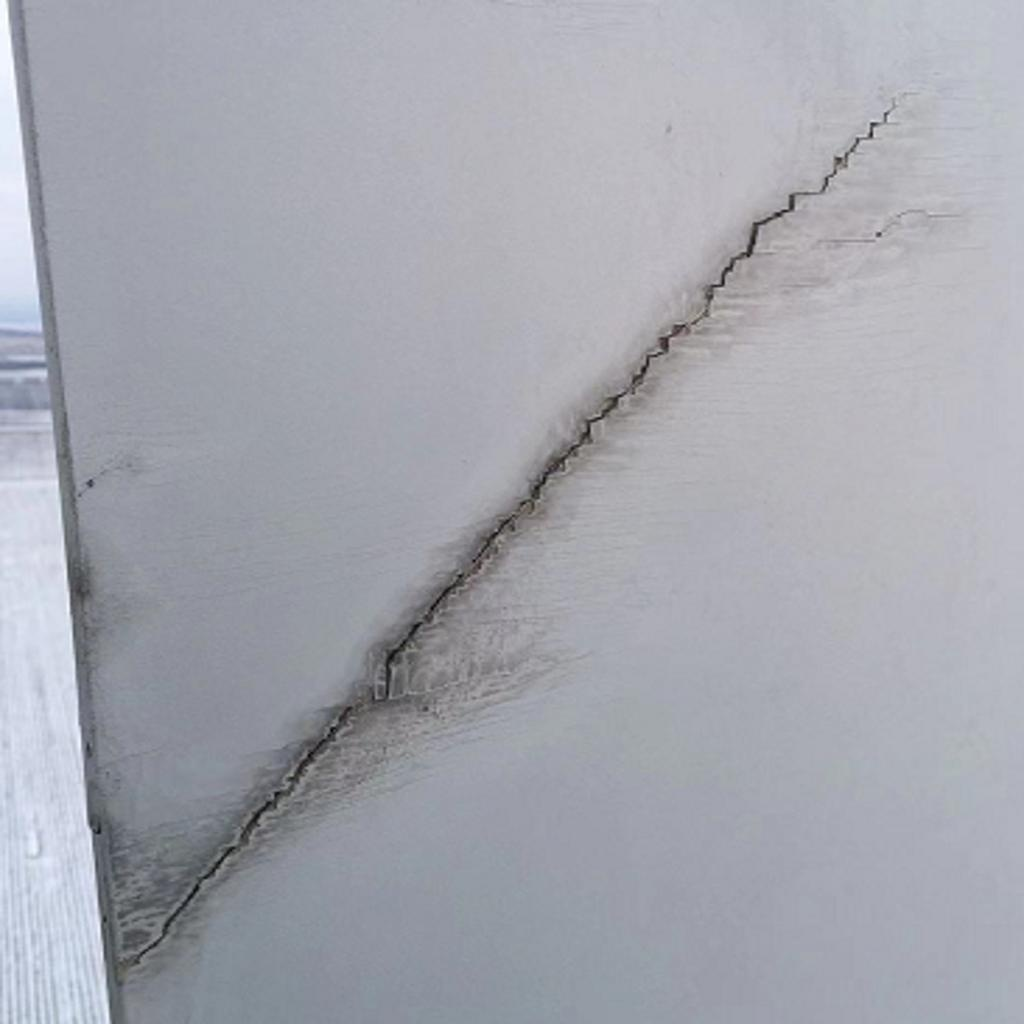hide_craze: (141, 107, 893, 959)
